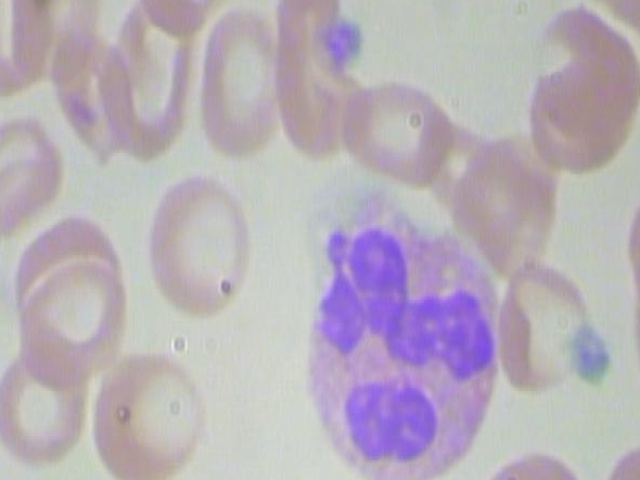RBC: (15, 232, 129, 383), (146, 173, 260, 323), (94, 348, 202, 480), (339, 66, 451, 183), (195, 7, 281, 155), (0, 328, 89, 469), (0, 100, 69, 241), (465, 439, 585, 480), (0, 0, 46, 94)
WBC: (298, 184, 511, 480)
